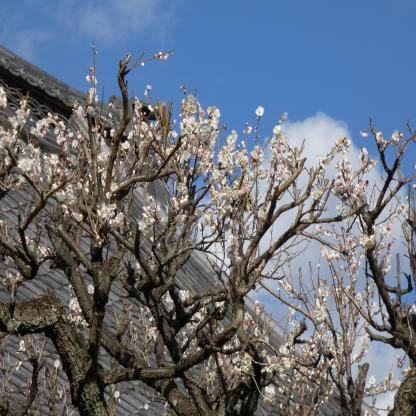Ume: (1, 52, 416, 416)
